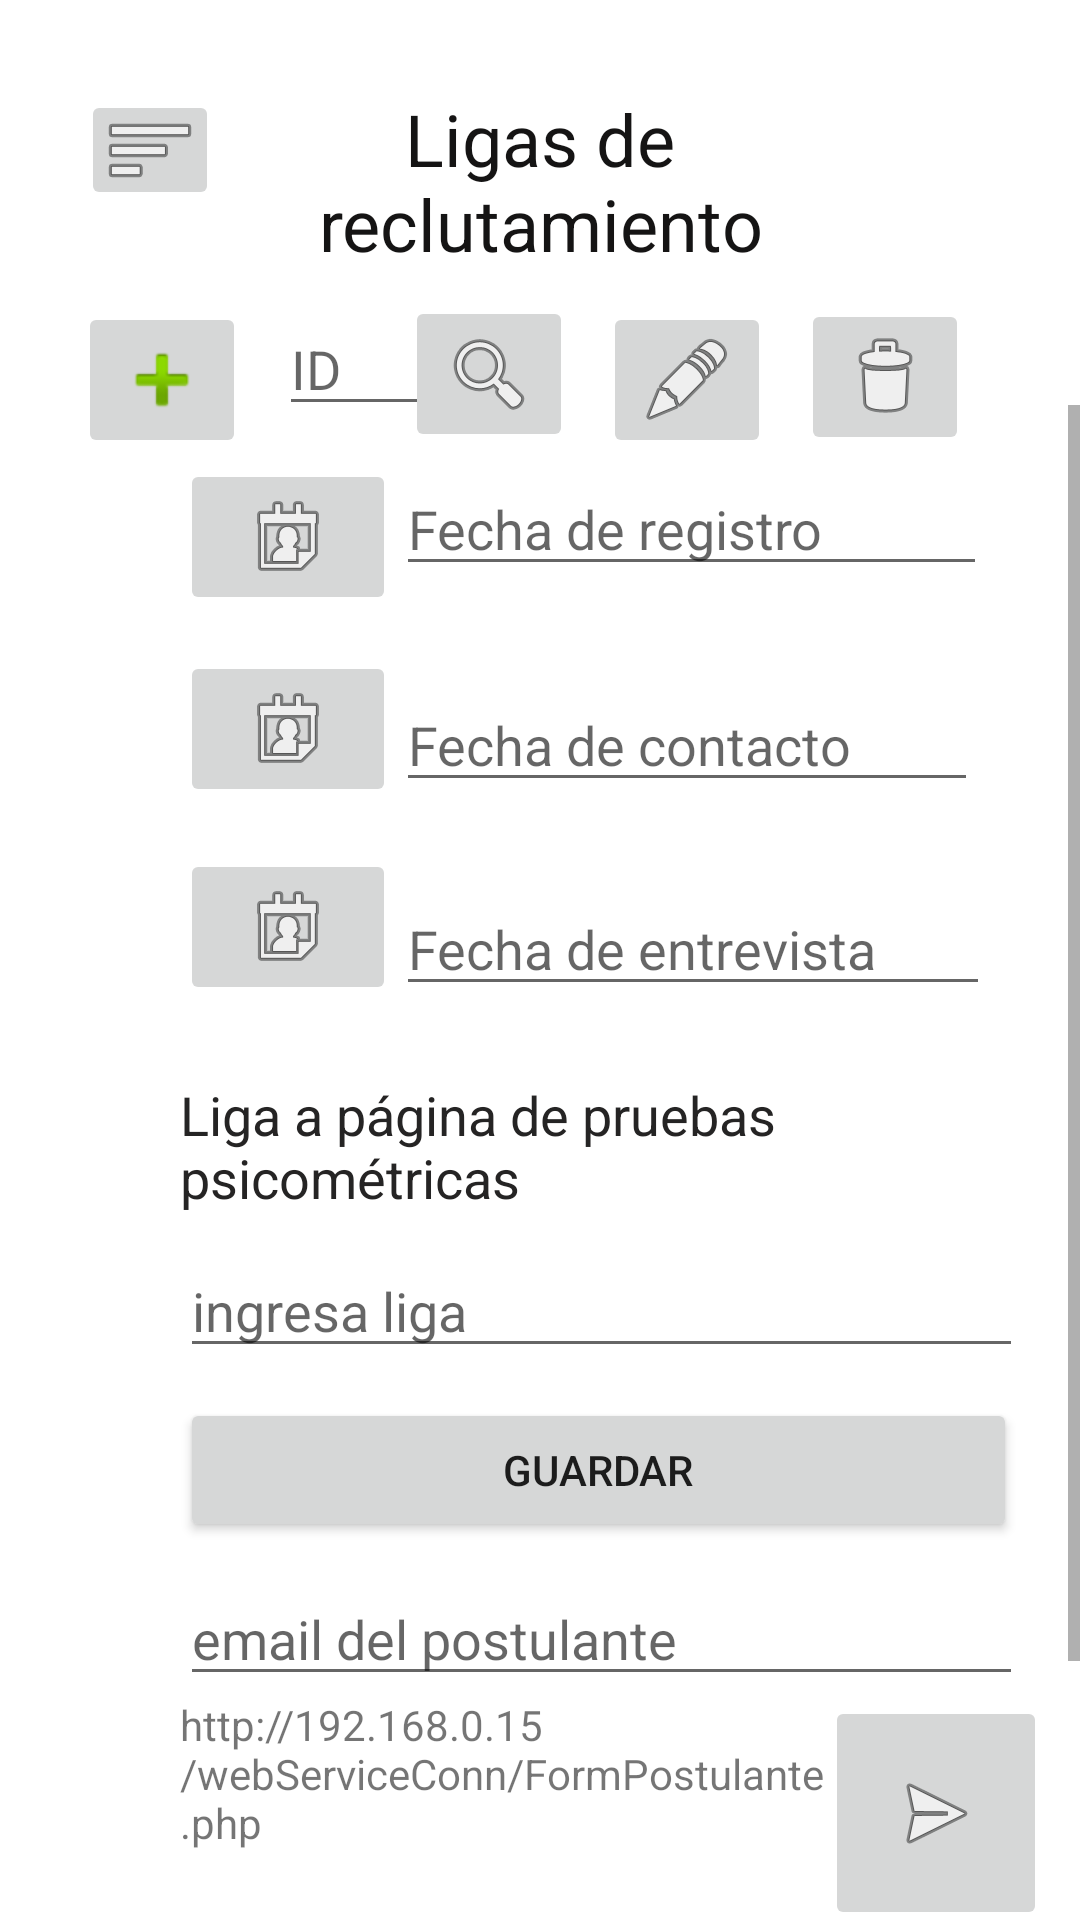

Icon click points for this 1080x1920 phone screenshot, format (x,y):
add: (162,380)
calendar: (288,537), (288,729), (288,927)
delete: (885,377)
edit: (687,380)
search: (483,374)
send: (936,1813)
sort by size: (150,150)
